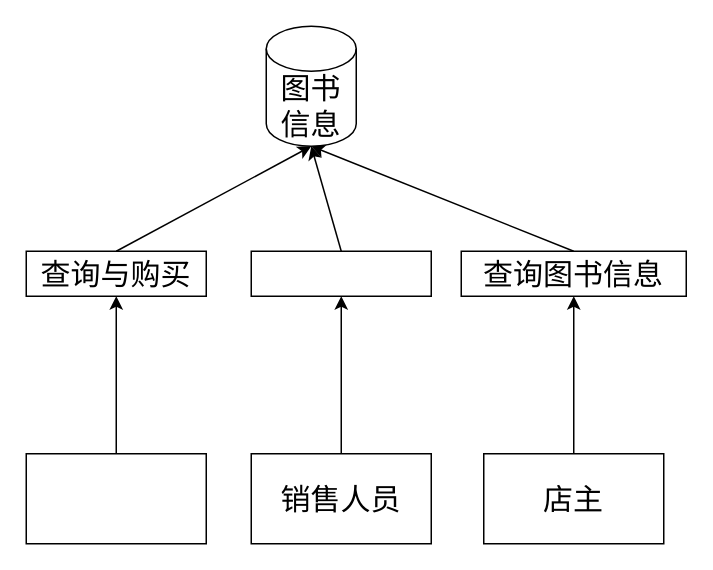
This 713x570 diagram has some shape labels left out. Each missing label, with the box of its shape:
录入与修改: (250, 250, 431, 296)
顾客: (25, 452, 206, 544)
